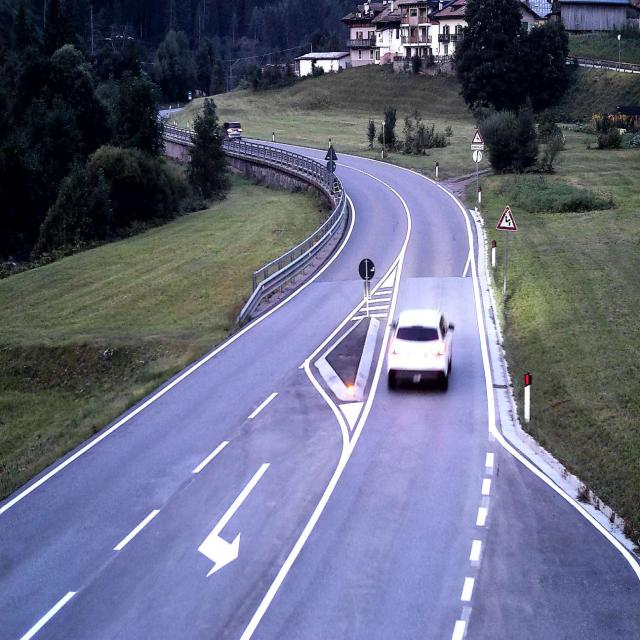car: (386, 307, 454, 390), (224, 121, 243, 140)
